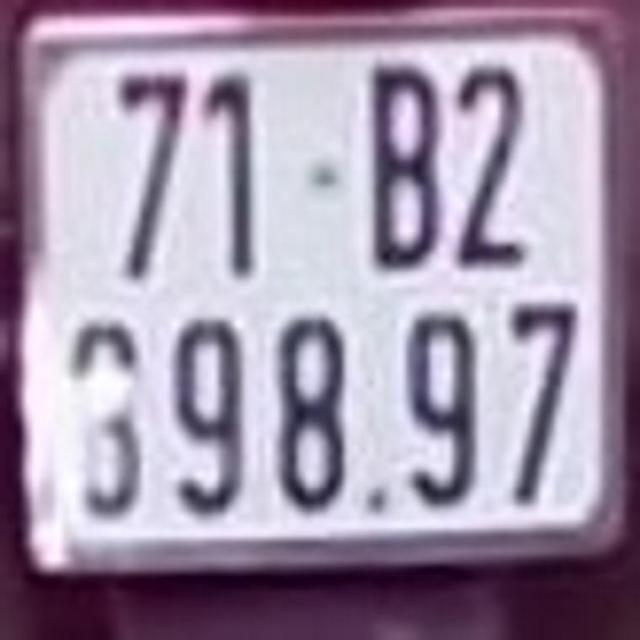1: (198, 55, 274, 282)
2: (453, 55, 526, 272)
3: (65, 296, 146, 520)
7: (112, 58, 189, 285), (507, 290, 584, 505)
8: (274, 299, 345, 512)
9: (404, 298, 479, 505), (173, 304, 243, 515)
B: (369, 54, 441, 272)
